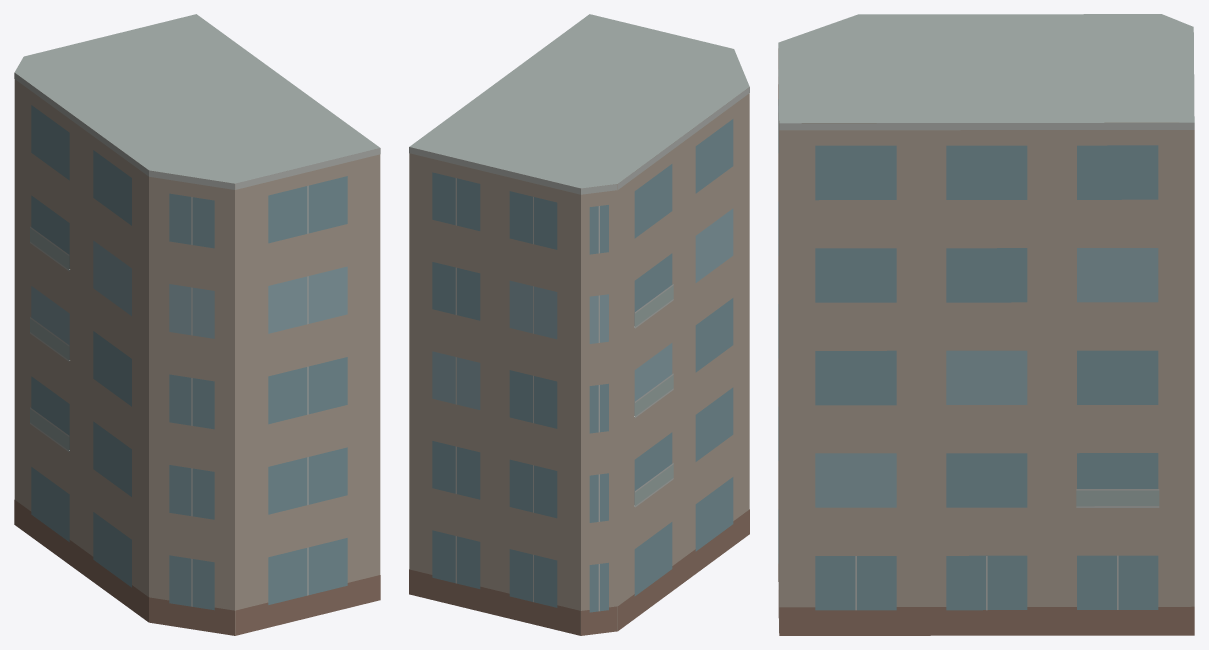
File: survey-upis-33029784.glb
The picture shows the model from 3 angles, left to right: view 1: azimuth 30°, elevation 25°; view 2: azimuth 150°, elevation 25°; view 3: azimuth 270°, elevation 25°; orthographic projection. The views are drawn at different scales.
Parts seen in each view (by area): view 1: survey-upis-33029784.tmp; view 2: survey-upis-33029784.tmp; view 3: survey-upis-33029784.tmp.
Part boxes in pixels (x1,y1,x2,y2): survey-upis-33029784.tmp: [14, 14, 380, 635]; survey-upis-33029784.tmp: [409, 14, 749, 635]; survey-upis-33029784.tmp: [778, 14, 1194, 635].
Bounding box in the file's own units: 7.97 × 17.35 × 12.77.
